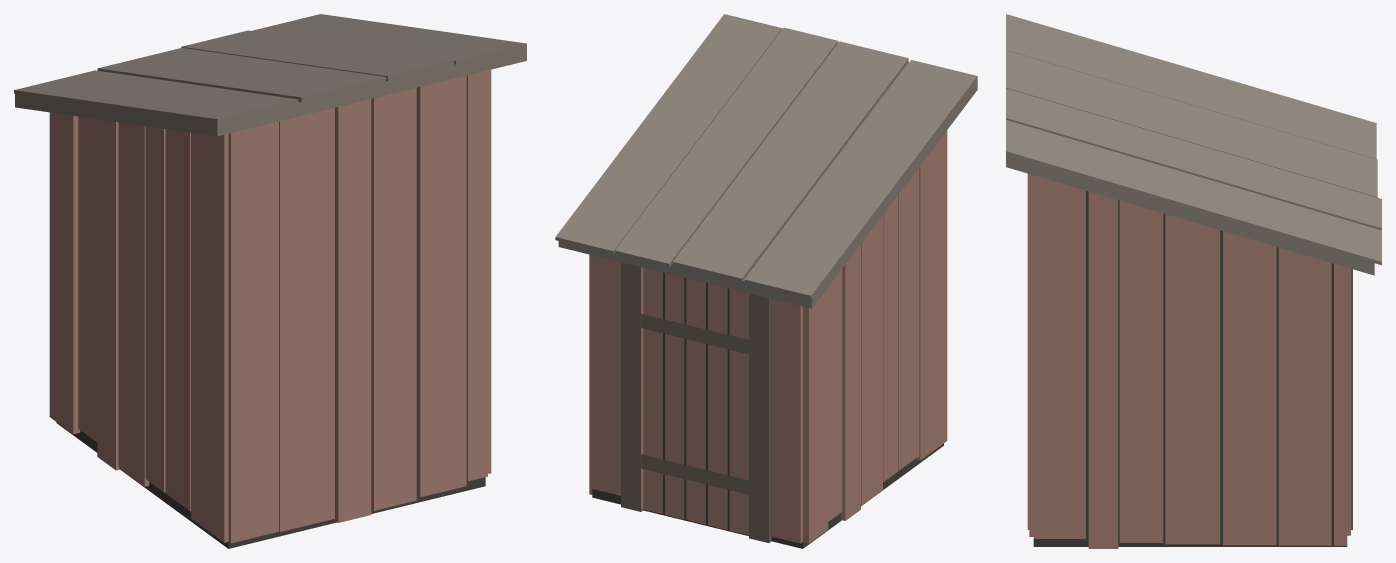
File: recon_1835_north_a3_009__inferred_1835.glb
The picture shows the model from 3 angles, left to right: view 1: azimuth 30°, elevation 25°; view 2: azimuth 150°, elevation 25°; view 3: azimuth 270°, elevation 25°; orthographic projection. The views are drawn at different scales.
Visible parts, largest first — view 1: recon_1835_north_a3_009__inferred_1835; view 2: recon_1835_north_a3_009__inferred_1835; view 3: recon_1835_north_a3_009__inferred_1835.
Part boxes in pixels (x1=…): recon_1835_north_a3_009__inferred_1835: x1=14, y1=14, x2=526, y2=548; recon_1835_north_a3_009__inferred_1835: x1=555, y1=14, x2=977, y2=548; recon_1835_north_a3_009__inferred_1835: x1=1006, y1=14, x2=1381, y2=548.
Bounding box in the file's own units: 2.02 × 2.8 × 2.33.
